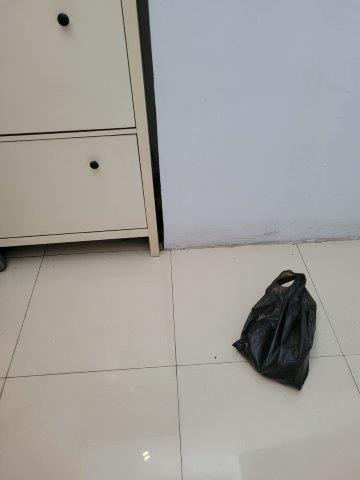plastik: (234, 273, 320, 391)
